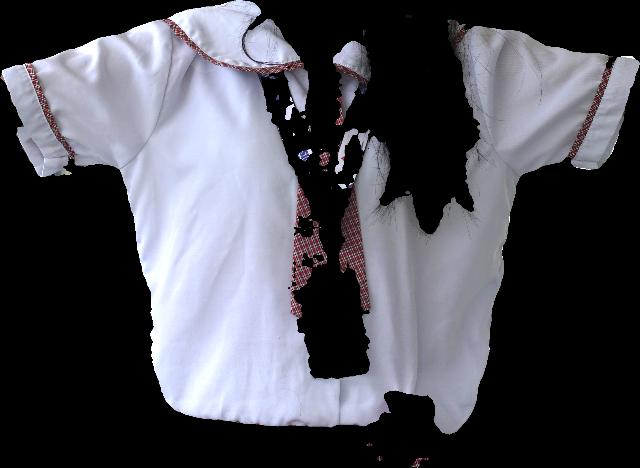pologirl: (1, 0, 639, 434)
